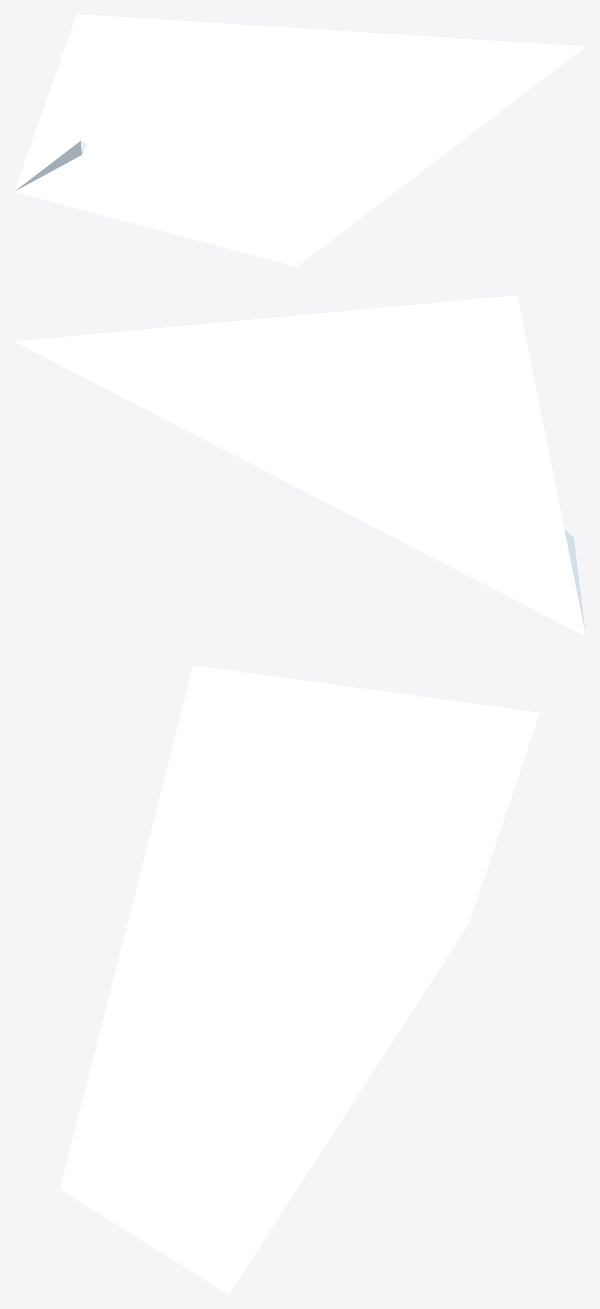
The model's file is shard.glb.
3 views of the same model, one above another, from view 1: azimuth 30°, elevation 25°; view 2: azimuth 150°, elevation 25°; view 3: azimuth 270°, elevation 25° (orthographic). The views are drawn at different scales.
Visible parts, largest first — view 1: shard; view 2: shard; view 3: shard.
Boxes of the visible parts, <box> form: shard: <box>14,14,585,266</box>; shard: <box>14,295,585,636</box>; shard: <box>60,665,539,1294</box>.
Size of the model in its own units: 0.133 by 0.058 by 0.054.
2 materials, 2 textured.
